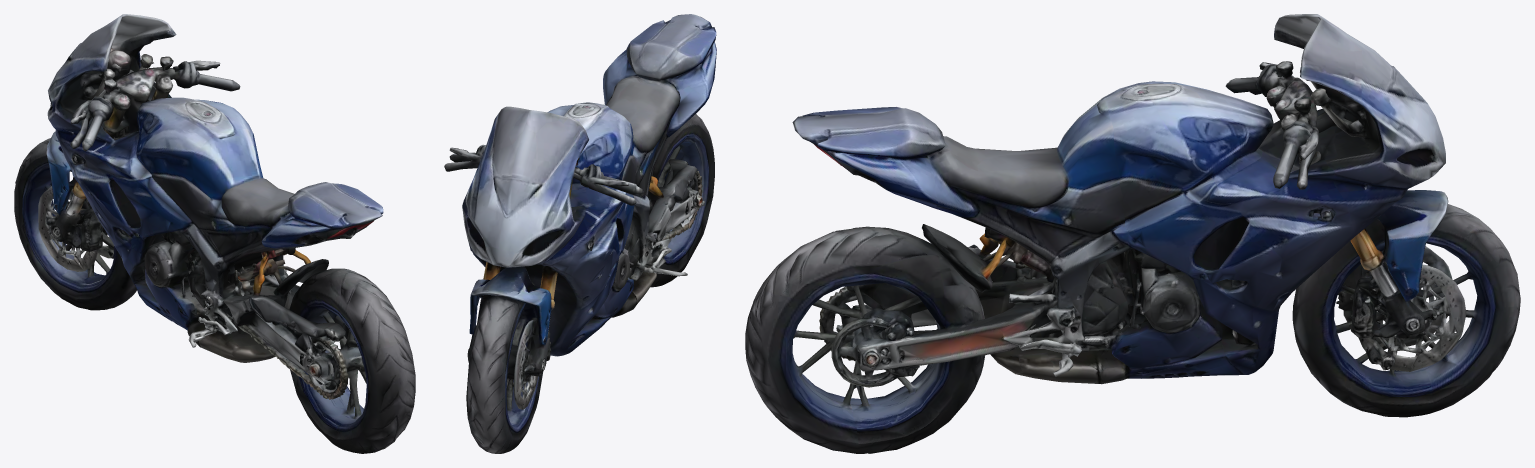
File: tempete.glb
The picture shows the model from 3 angles, left to right: view 1: azimuth 30°, elevation 25°; view 2: azimuth 150°, elevation 25°; view 3: azimuth 270°, elevation 25°; orthographic projection. The views are drawn at different scales.
Parts seen in each view (by area): view 1: body, wheel_r, wheel_f; view 2: body, wheel_r, wheel_f; view 3: body, wheel_f, wheel_r.
Boxes of the visible parts, box(x1,y1,x2,y2) form: body: box(14, 14, 415, 439); wheel_r: box(255, 284, 415, 453); wheel_f: box(29, 141, 136, 310); body: box(444, 14, 716, 449); wheel_r: box(648, 119, 714, 287); wheel_f: box(466, 279, 551, 453); body: box(745, 14, 1484, 400); wheel_f: box(1292, 213, 1520, 417); wheel_r: box(748, 254, 979, 453).
Size of the model in its own units: 0.714 by 1.2 by 2.1.
1 material, 1 textured.
